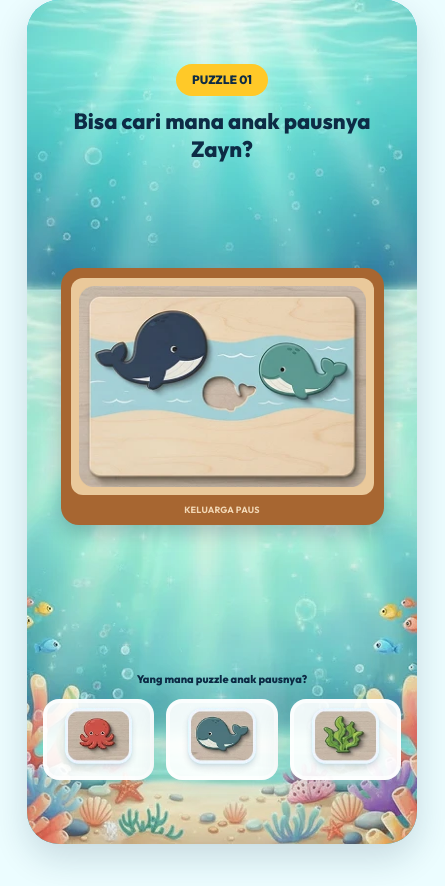
Scenario: BeachPuzzleScreen › memberikan feedback jika pilihan salah
Click the button named "pilih gurita": (99, 740) [43,699,154,780]
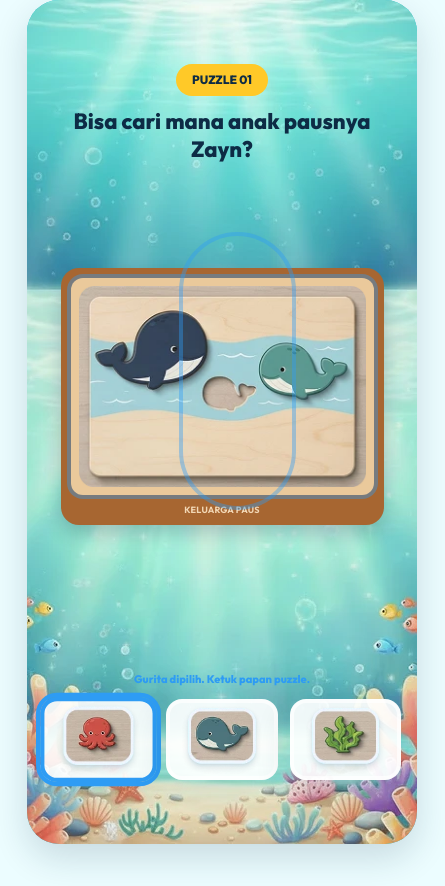
Now the button named "pasang potongan ke papan puzzle" is enabled
Click the button named "pasang potongan ke papan puzzle": (222, 387) [70,278,374,495]
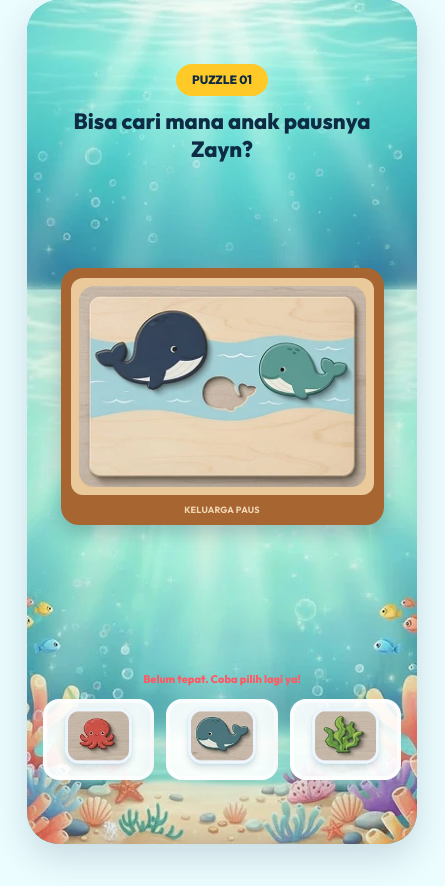
Now the message shows "Belum tepat", box [143,672,301,686]
Now the button named "pasang potongan ke papan puzzle" is disabled, box [70,278,374,495]
